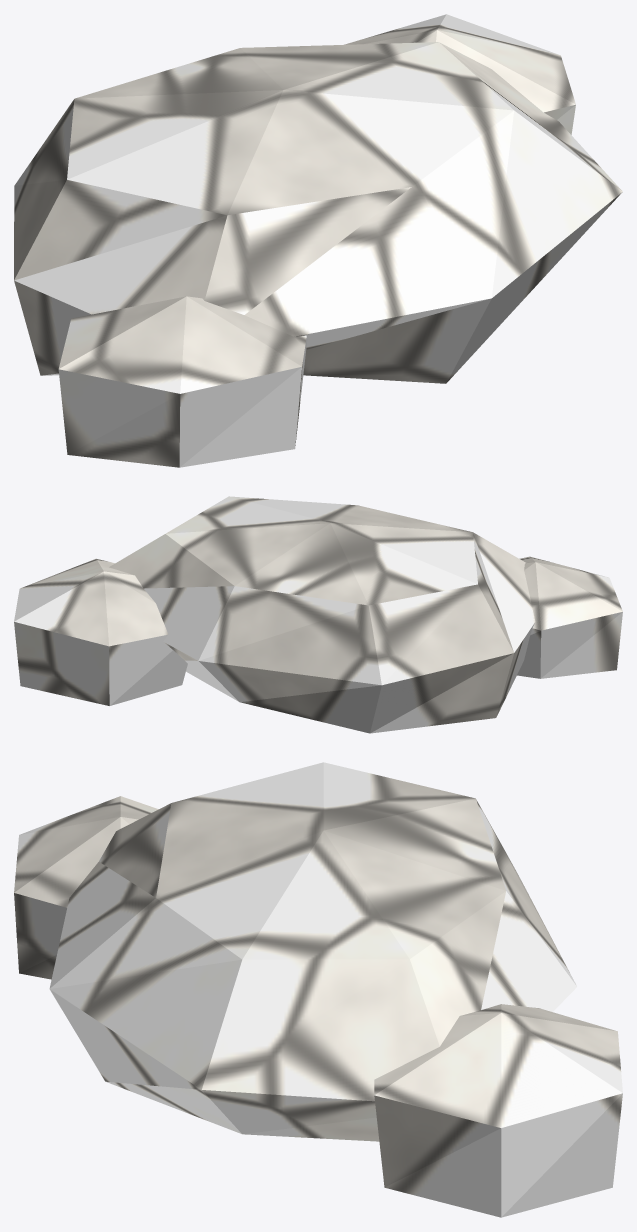
The model's file is sasso_b.obj.
3 renders of one model, top to bottom at view 1: azimuth 30°, elevation 25°; view 2: azimuth 150°, elevation 25°; view 3: azimuth 270°, elevation 25°, orthographic. The views are drawn at different scales.
Visible parts, largest first — view 1: sasso_b; view 2: sasso_b; view 3: sasso_b.
Part boxes in pixels (x1,y1,x2,y2): sasso_b: (14, 14, 622, 467); sasso_b: (14, 496, 622, 733); sasso_b: (14, 762, 622, 1217).
Size of the model in its own units: 1.58 by 0.56 by 1.2.
Materials: 3 (3 with a texture image).
